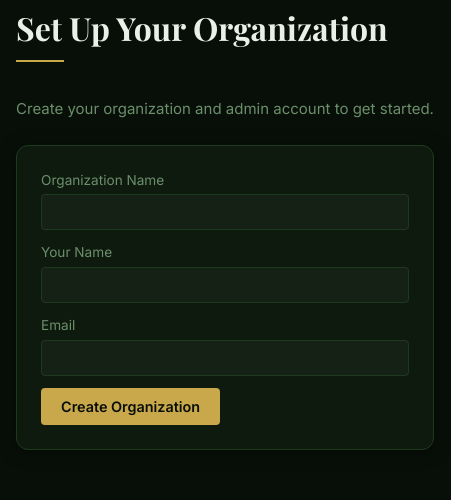
it: OrgSetupPage › proceeds to passkey registration on 409 (pre-seeded org)
Step 1. Type "Existing Org" into the field labelled "Organization Name" → [225, 212], box [41,194,409,230]
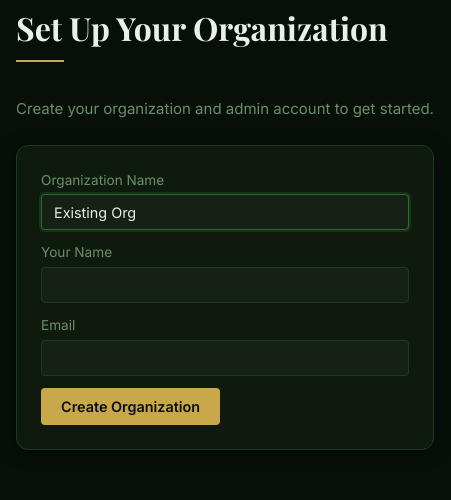
Step 2. Type "Jane" into the field labelled "Your Name" → [225, 285], box [41,267,409,304]
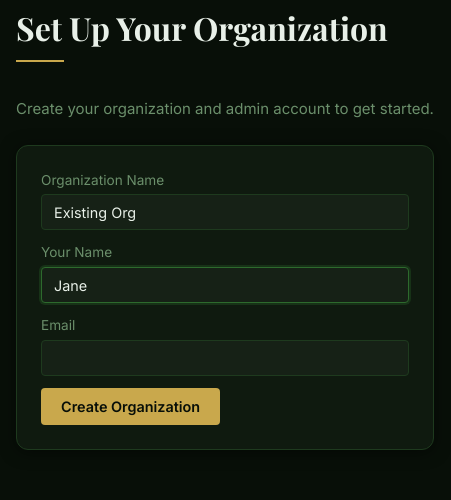
Step 3. Type "jane@test.com" into the field labelled "Email" → [225, 358], box [41,340,409,376]
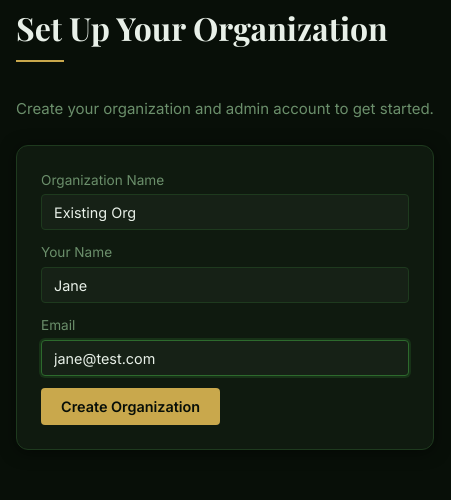
Step 4. Click the button "Create Organization" → [131, 407], box [41,388,220,425]
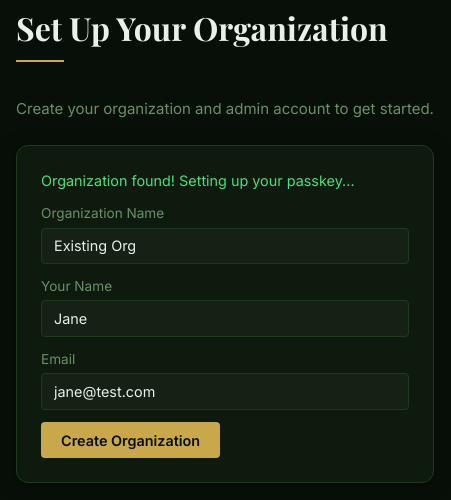
Expected: the text "Organization found! Setting up your passkey..." is shown, [41,170,409,191]
